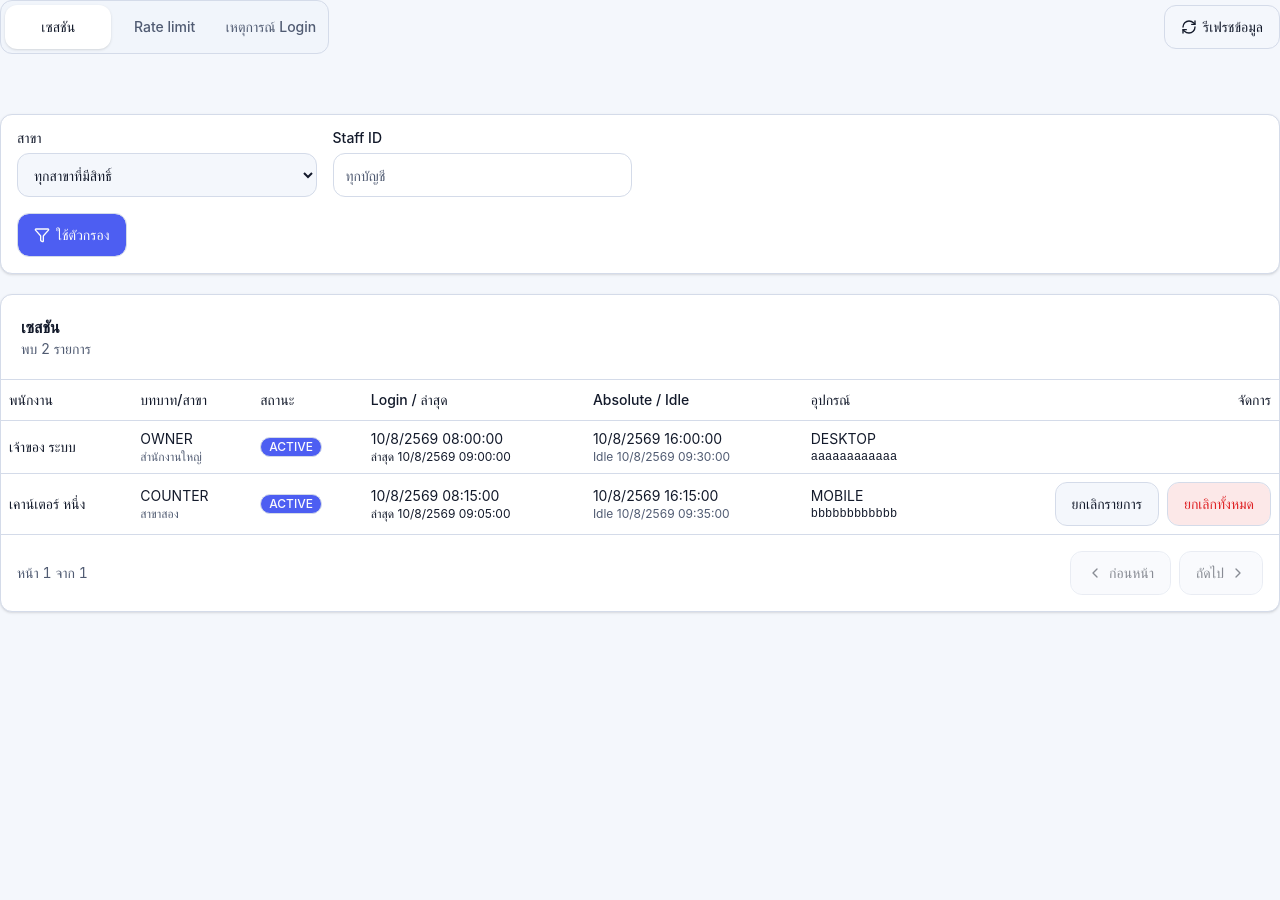
Test: SecurityConsole › ปิด action ระหว่าง pending และประกาศผลสำเร็จก่อน refresh
The image size is (1280, 900).
Later steps or results of the test are not shown.
Click the button with aria-label "ยกเลิกเซสชันของ เคาน์เตอร์ หนึ่ง": (1107, 504) [1055,482,1159,526]
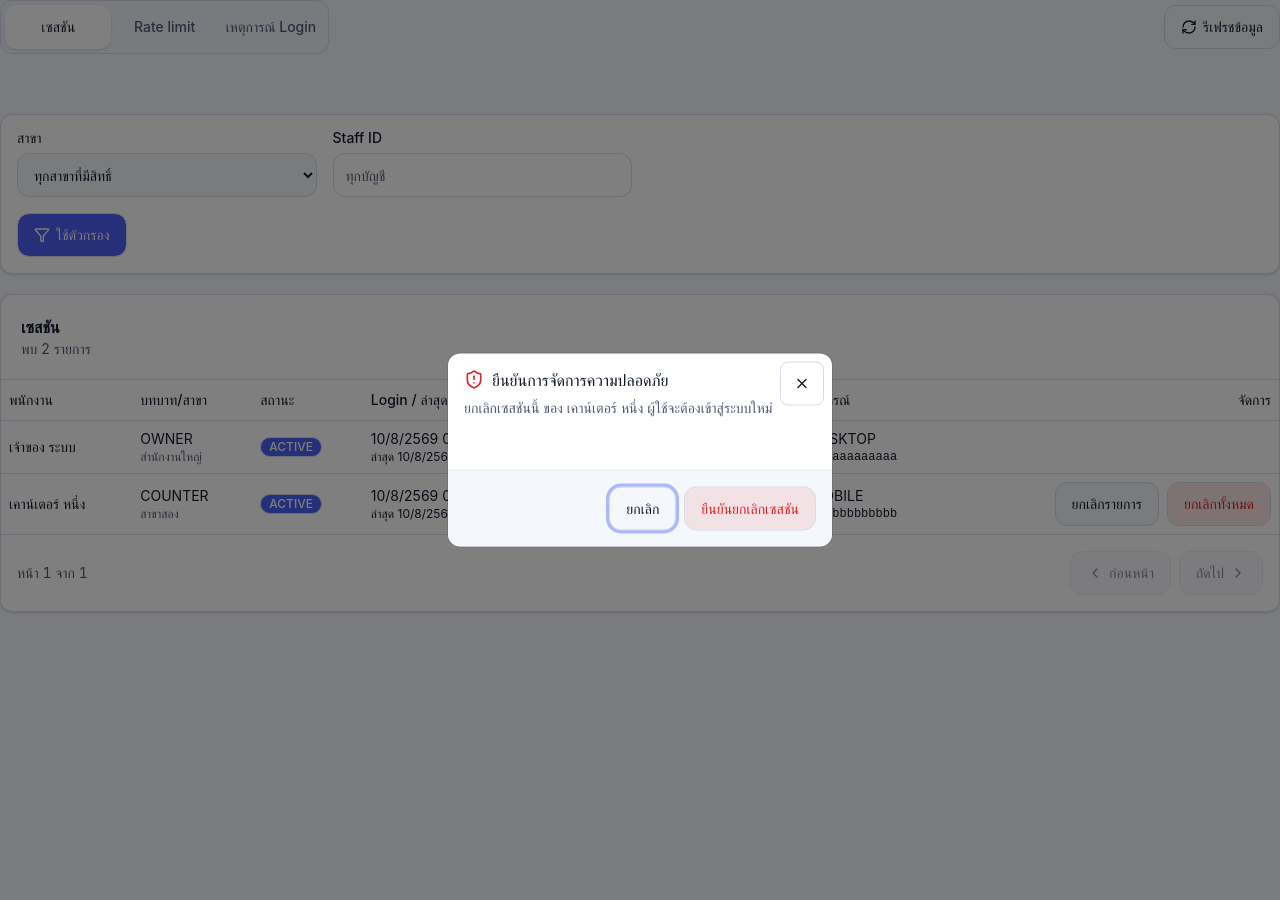
Click the button "ยืนยันยกเลิกเซสชัน": (750, 508) [684,486,816,530]
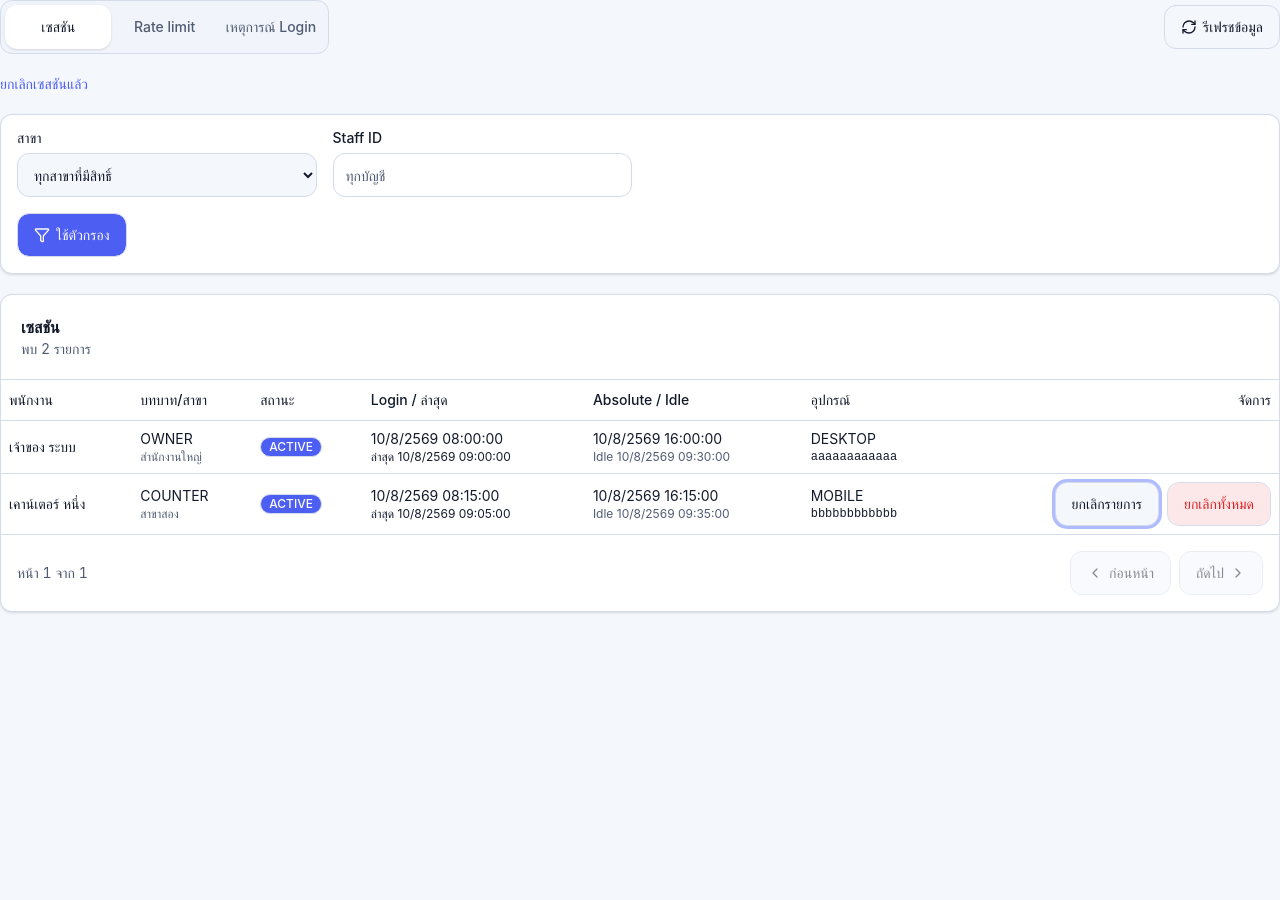
Result: the message reads "ยกเลิกเซสชันแล้ว" at [0,75,88,92]
